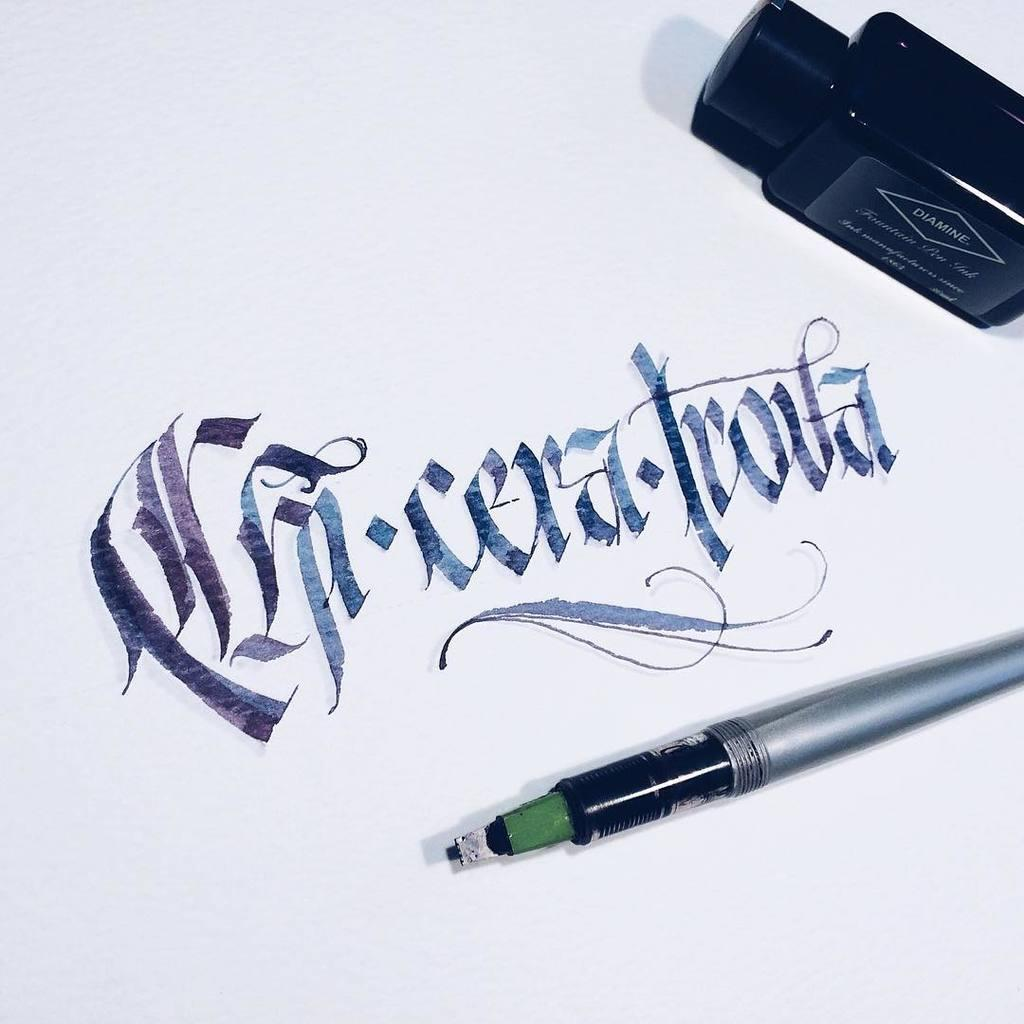pen: (442, 625, 1019, 878)
